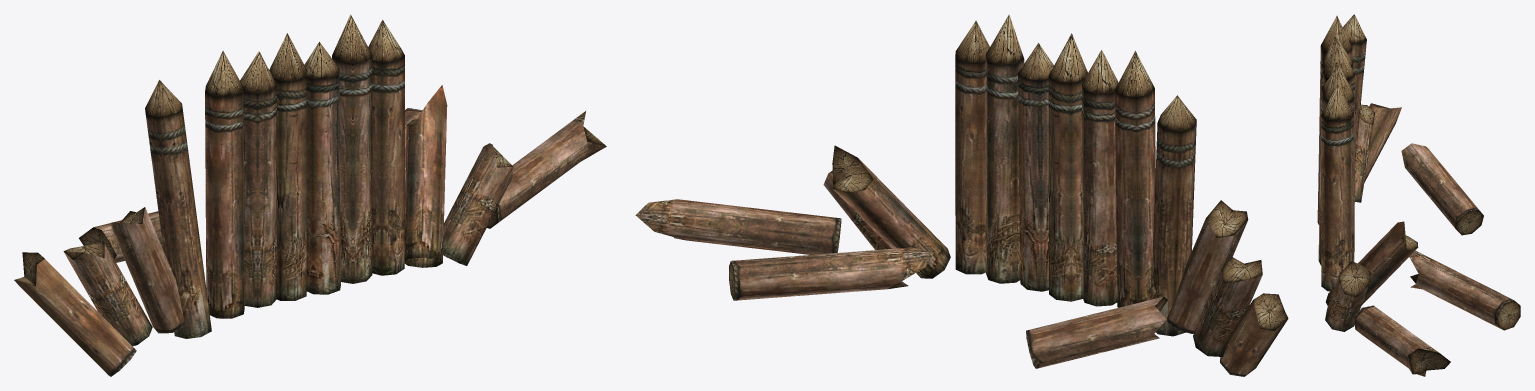
3 renders of one model, left to right at view 1: azimuth 30°, elevation 25°; view 2: azimuth 150°, elevation 25°; view 3: azimuth 270°, elevation 25°, orthographic. The views are drawn at different scales.
Visible parts, largest first — view 1: hr_rn10-col; view 2: hr_rn10-col; view 3: hr_rn10-col.
Part boxes in pixels (x1=…): hr_rn10-col: x1=14, y1=14, x2=606, y2=376; hr_rn10-col: x1=635, y1=14, x2=1288, y2=376; hr_rn10-col: x1=1317, y1=14, x2=1520, y2=376.
Size of the model in its own units: 9.48 by 4.5 by 3.37.
Materials: 2 (2 with a texture image).
